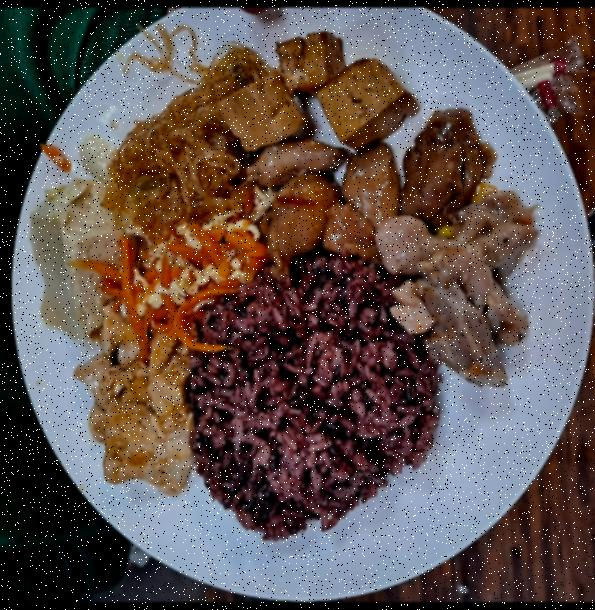plate: (7, 8, 595, 592)
purple rice: (197, 262, 423, 535)
side dish: (388, 181, 547, 390), (110, 45, 253, 231), (222, 32, 409, 152), (89, 312, 198, 490), (110, 206, 256, 338), (19, 186, 124, 341)
three cup chicken: (258, 135, 474, 259)
